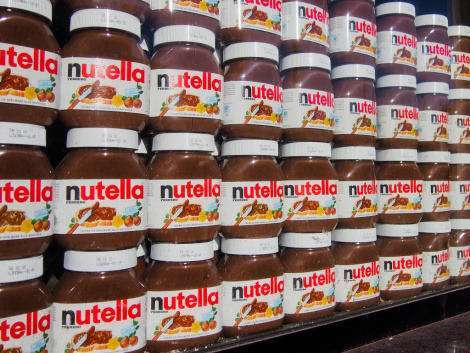nutella: (55, 126, 148, 251), (61, 10, 150, 126), (53, 247, 146, 352), (148, 132, 222, 243), (146, 243, 221, 351), (149, 25, 225, 131), (1, 1, 59, 125), (1, 123, 55, 255), (222, 237, 283, 340), (223, 139, 282, 239), (223, 42, 283, 138), (282, 231, 335, 324), (283, 143, 337, 232), (283, 52, 334, 143), (335, 228, 378, 315), (335, 63, 378, 145), (378, 224, 422, 303), (378, 148, 423, 224), (338, 146, 378, 228), (330, 1, 378, 64), (378, 75, 419, 148), (378, 3, 418, 74), (417, 14, 451, 79), (418, 82, 448, 150), (423, 222, 451, 292), (424, 151, 451, 221)
